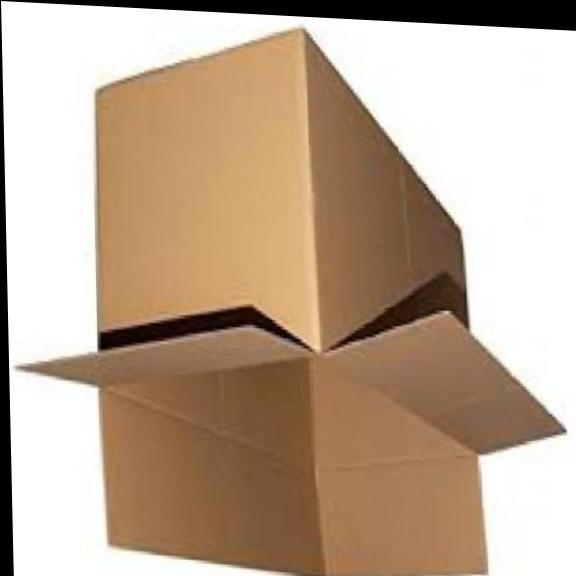Kertas: (25, 31, 562, 575)
